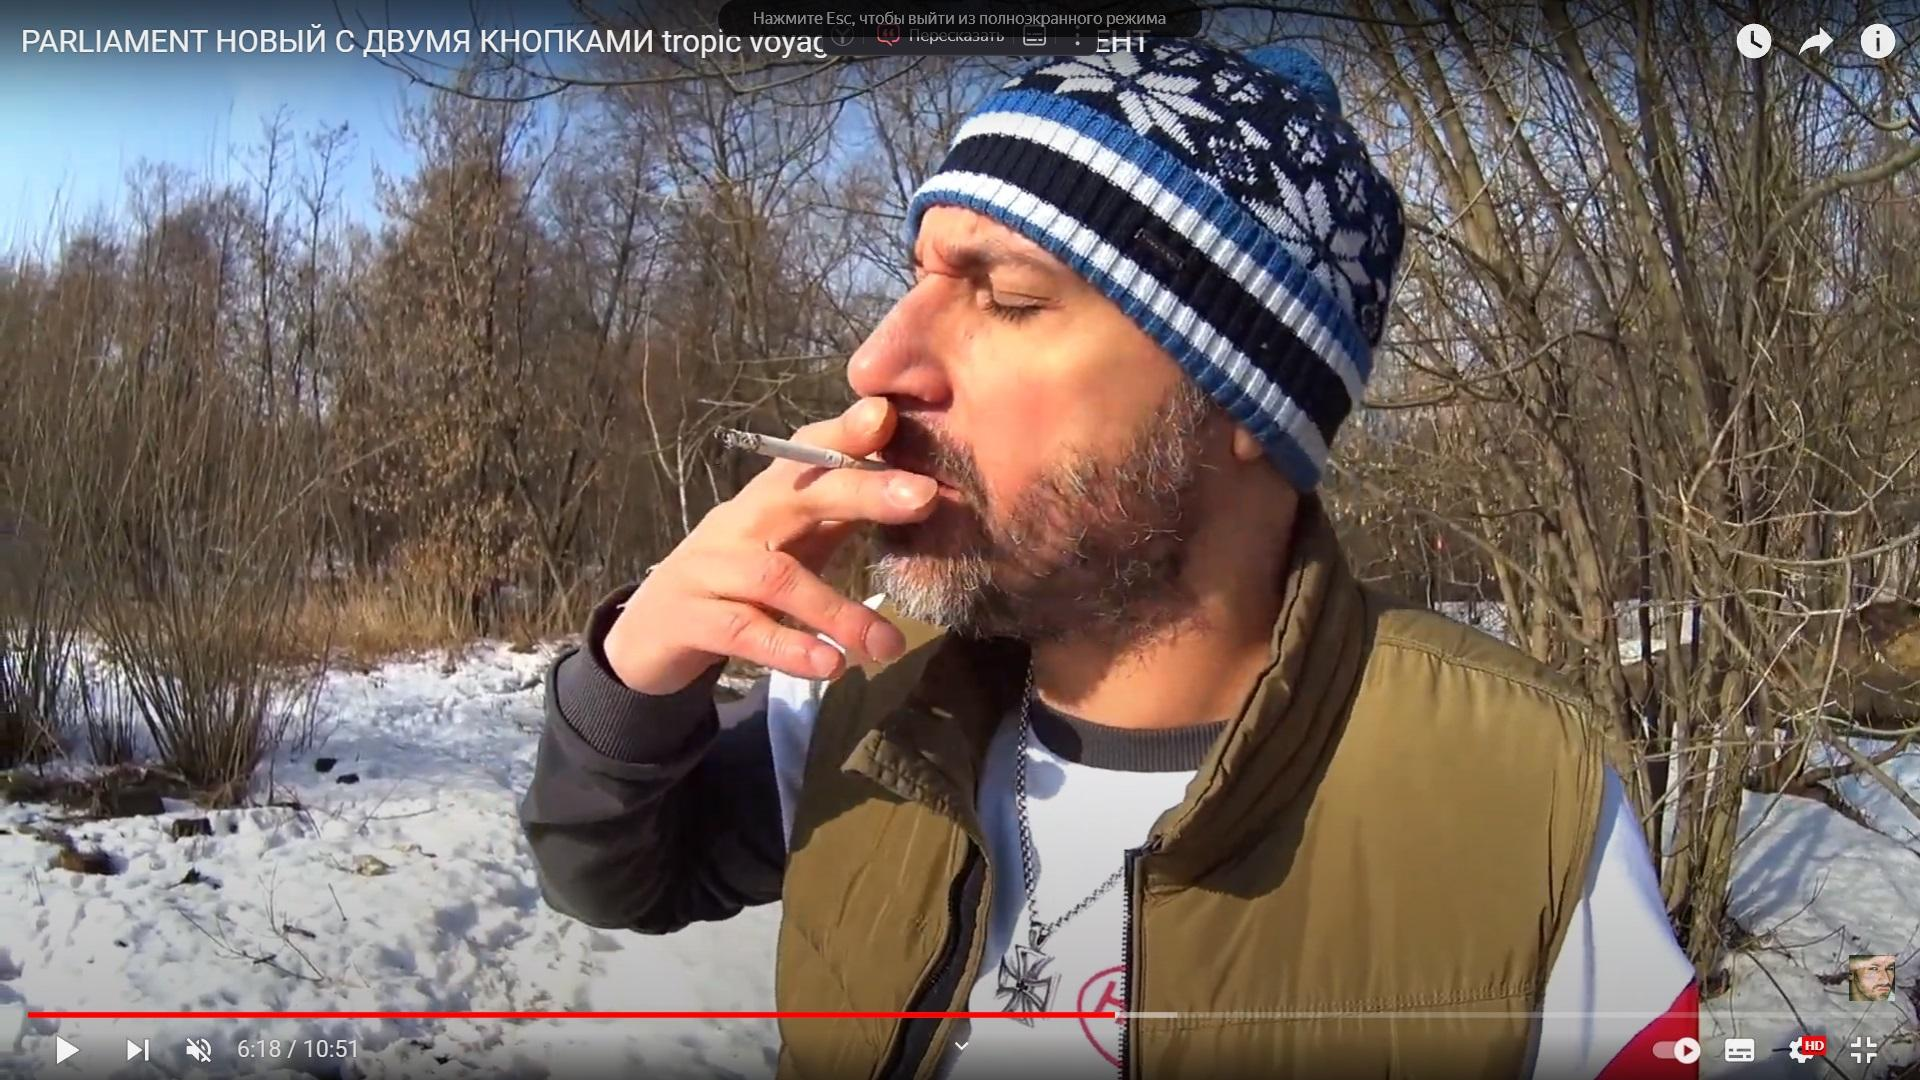cigarette: (715, 427, 894, 472)
